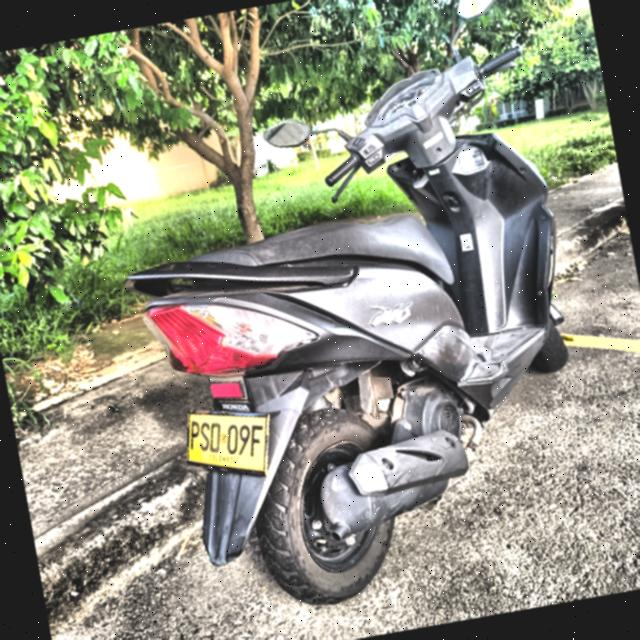0: (226, 423, 238, 455)
9: (237, 423, 250, 455)
F: (249, 424, 263, 457)
O: (209, 421, 221, 453)
P: (189, 419, 199, 450)
S: (199, 421, 210, 452)
